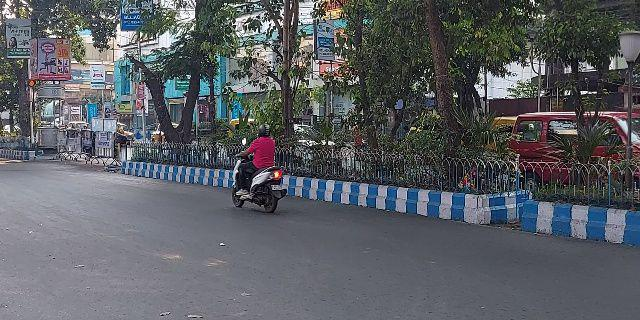Motorbike: (226, 121, 287, 216)
